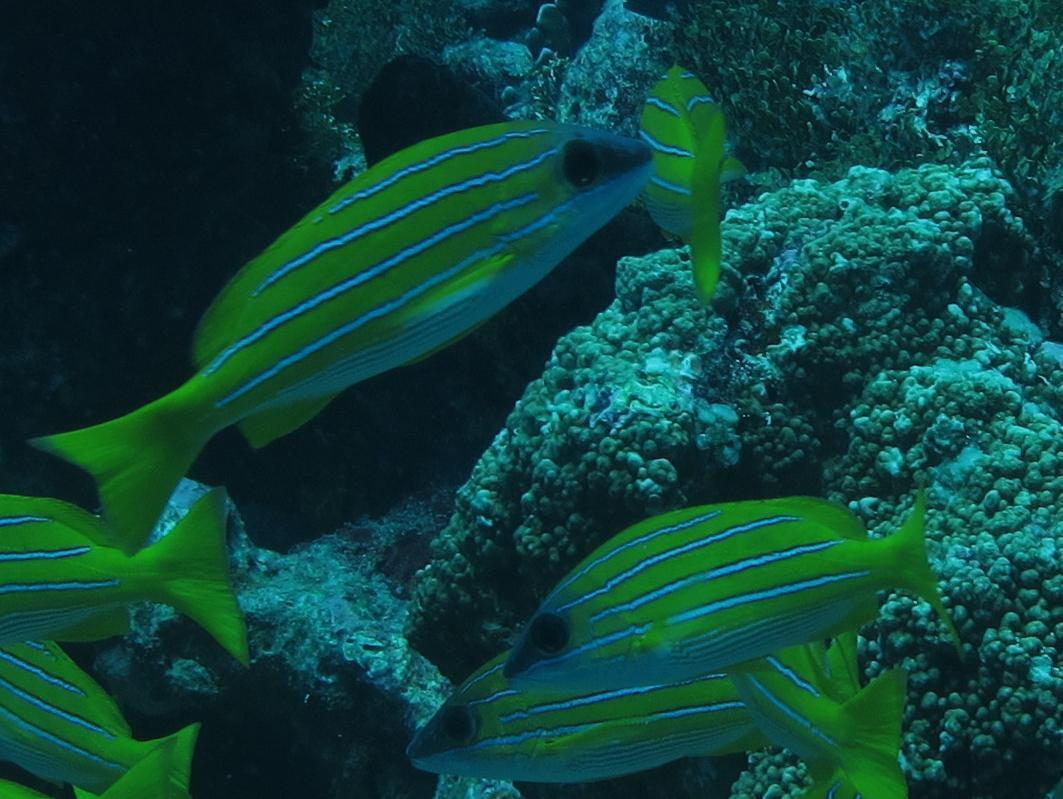Fish: (6, 108, 660, 554)
